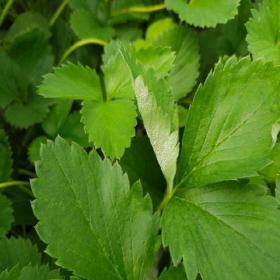Powdery Mildew Leaf: (174, 53, 279, 188), (116, 42, 180, 192)
